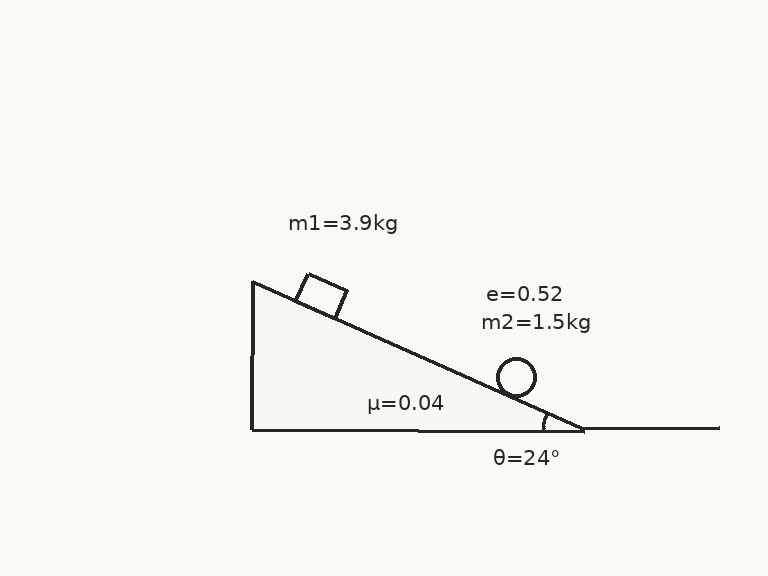ball: (494, 355, 538, 399)
block: (293, 271, 348, 320)
ramp: (250, 280, 585, 431)
